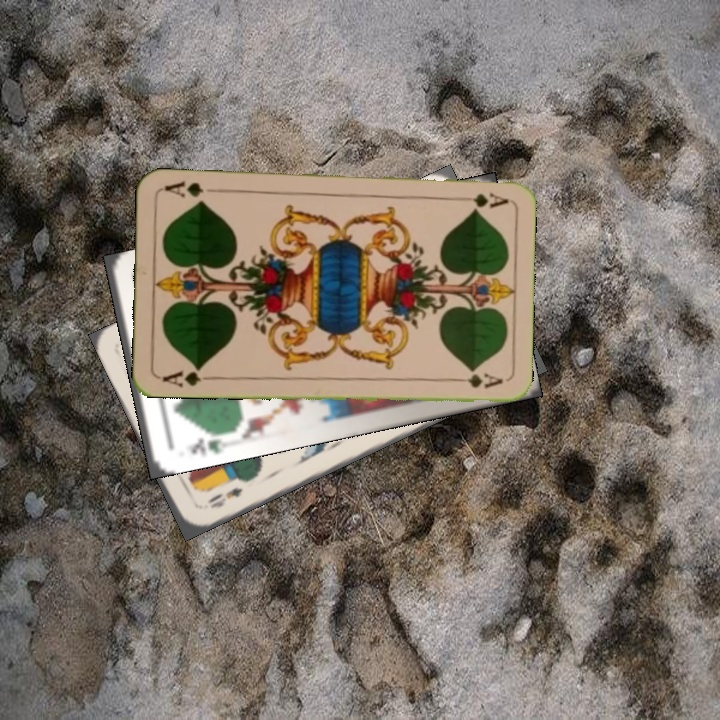EO: (203, 483, 245, 512)
GA: (159, 362, 216, 389), (451, 189, 510, 210)
GK: (186, 434, 228, 459)
